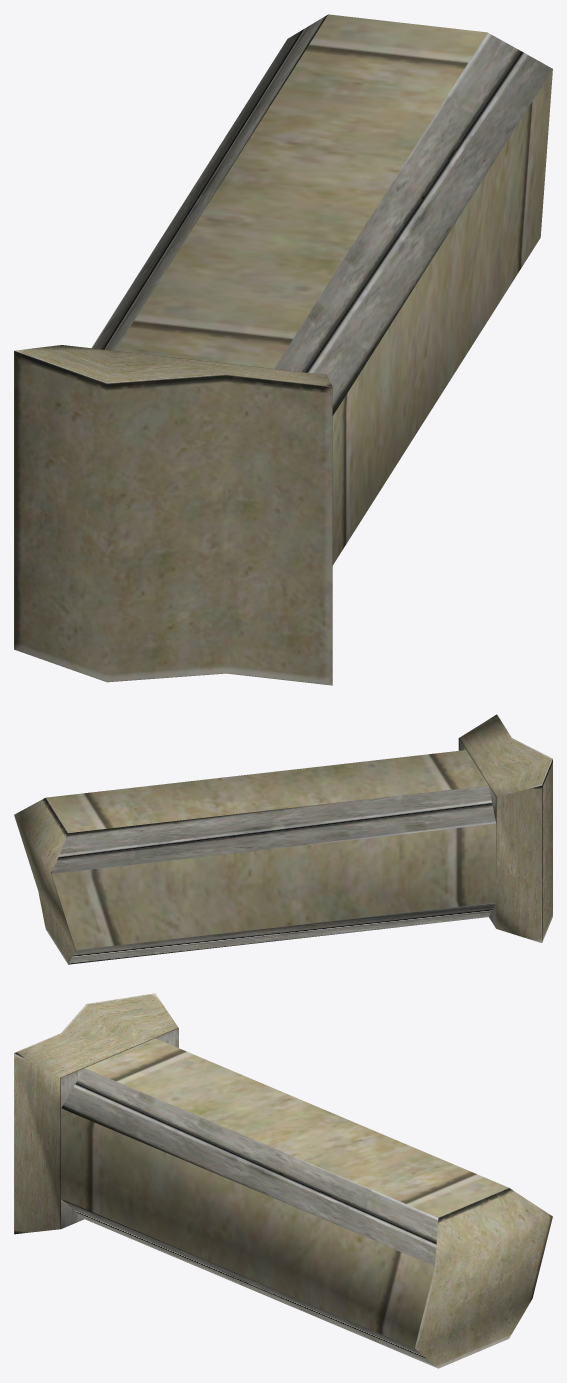
File: DWARF_PALACE_MAINHALL_DEBREE09.fbx
The picture shows the model from 3 angles, top to bottom: view 1: azimuth 30°, elevation 25°; view 2: azimuth 150°, elevation 25°; view 3: azimuth 270°, elevation 25°; orthographic projection. The views are drawn at different scales.
Parts seen in each view (by area): view 1: DWARF_PALACE_MAINHALL_DEBREE09; view 2: DWARF_PALACE_MAINHALL_DEBREE09; view 3: DWARF_PALACE_MAINHALL_DEBREE09.
Part boxes in pixels (x1,y1,x2,y2): DWARF_PALACE_MAINHALL_DEBREE09: [14, 14, 552, 685]; DWARF_PALACE_MAINHALL_DEBREE09: [14, 714, 552, 964]; DWARF_PALACE_MAINHALL_DEBREE09: [14, 993, 552, 1368].
Bounding box in the file's own units: 64668 × 24000 × 64668.
2 materials, 2 textured.
